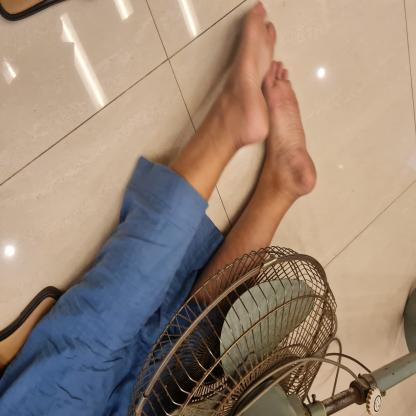leg: (196, 54, 324, 302), (168, 0, 279, 204)
